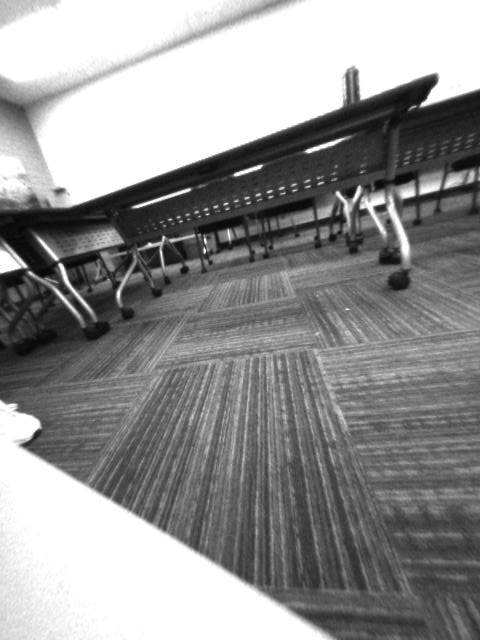can: (342, 65, 362, 107)
